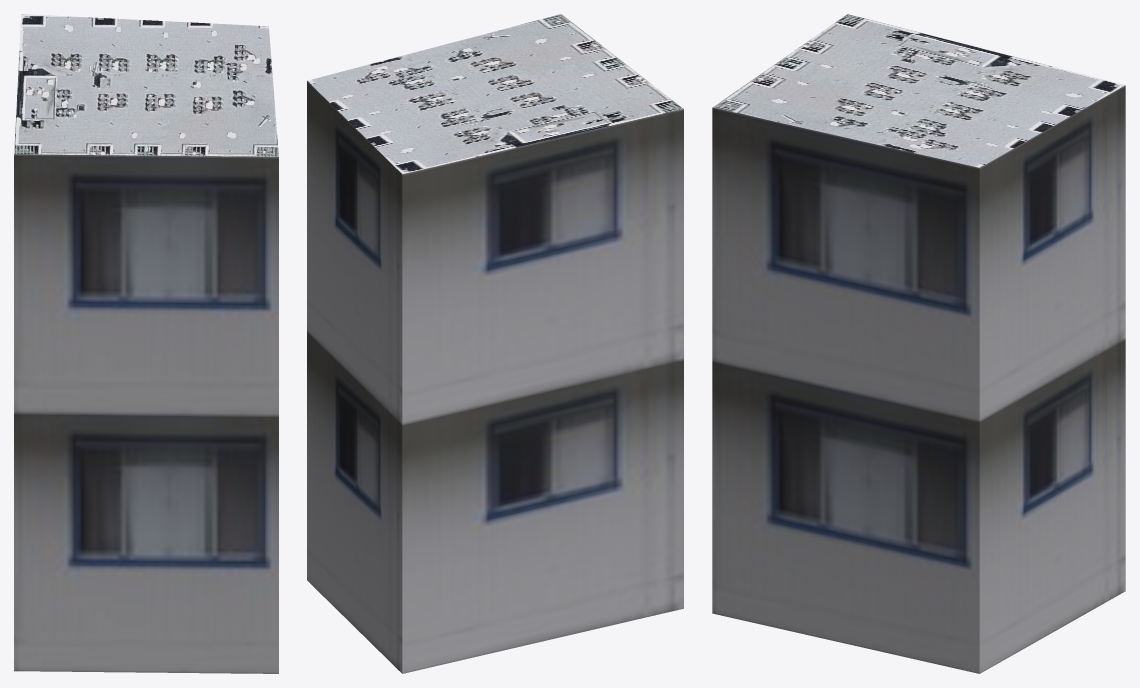
Rendered from ResTex__1818.fbx.
3 renders of one model, left to right at view 1: azimuth 30°, elevation 25°; view 2: azimuth 150°, elevation 25°; view 3: azimuth 270°, elevation 25°, orthographic. The views are drawn at different scales.
Parts seen in each view (by area): view 1: CityEngineMaterial_9_m, CityEngineMaterial_8_m; view 2: CityEngineMaterial_9_m, CityEngineMaterial_8_m; view 3: CityEngineMaterial_9_m, CityEngineMaterial_8_m.
Part boxes in pixels (box(x1,y1,x2,y2)): CityEngineMaterial_9_m: box(14, 154, 278, 673); CityEngineMaterial_8_m: box(14, 14, 278, 156); CityEngineMaterial_9_m: box(307, 81, 683, 673); CityEngineMaterial_8_m: box(307, 14, 683, 174); CityEngineMaterial_9_m: box(712, 85, 1125, 673); CityEngineMaterial_8_m: box(712, 14, 1125, 167).
Bounding box in the file's own units: 3.91 × 6 × 4.44.
2 materials, 2 textured.
